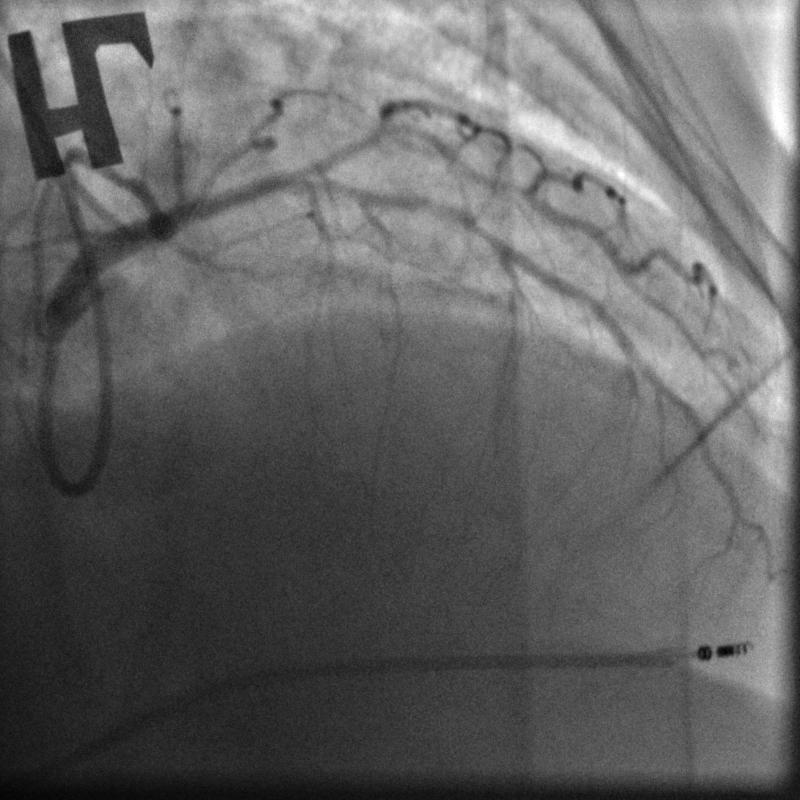Stenosis: (413, 193, 481, 233)
